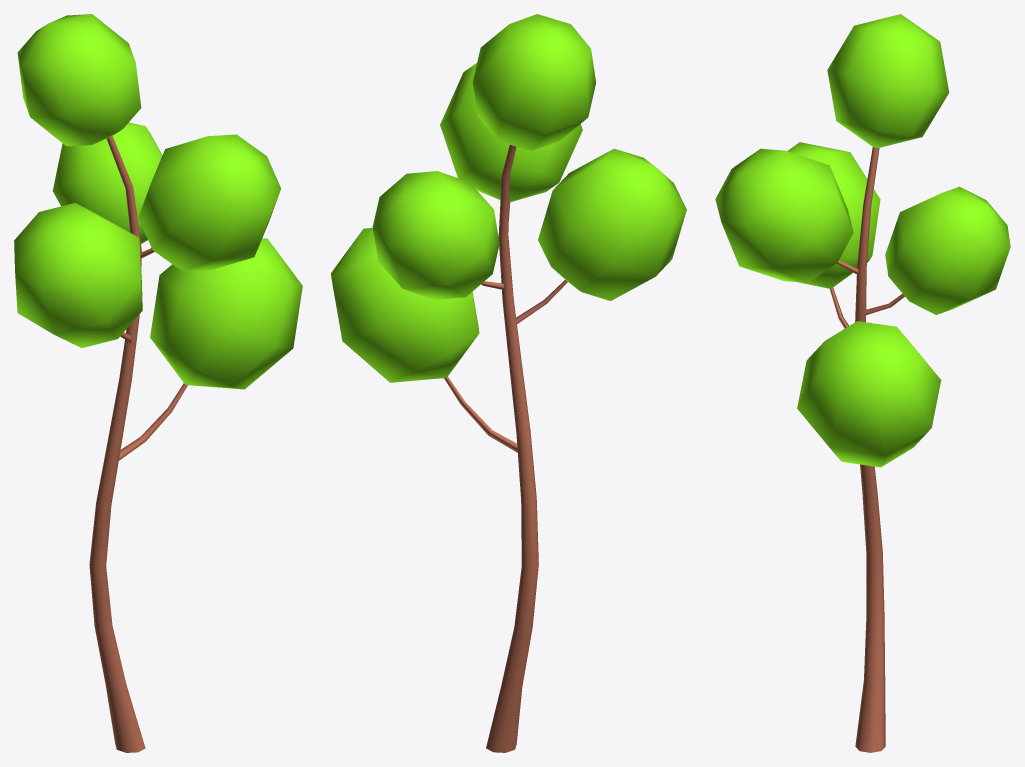
The model's file is Tree_Bobo2.fbx.
3 views of the same model, side by side, from view 1: azimuth 30°, elevation 25°; view 2: azimuth 150°, elevation 25°; view 3: azimuth 270°, elevation 25° (orthographic). The views are drawn at different scales.
Parts seen in each view (by area): view 1: Mesh; view 2: Mesh; view 3: Mesh.
Part boxes in pixels (box(x1,y1,x2,y2)): Mesh: box(14, 14, 302, 752); Mesh: box(331, 14, 686, 752); Mesh: box(715, 14, 1010, 752).
Bounding box in the file's own units: 1393 × 3171 × 1210.
